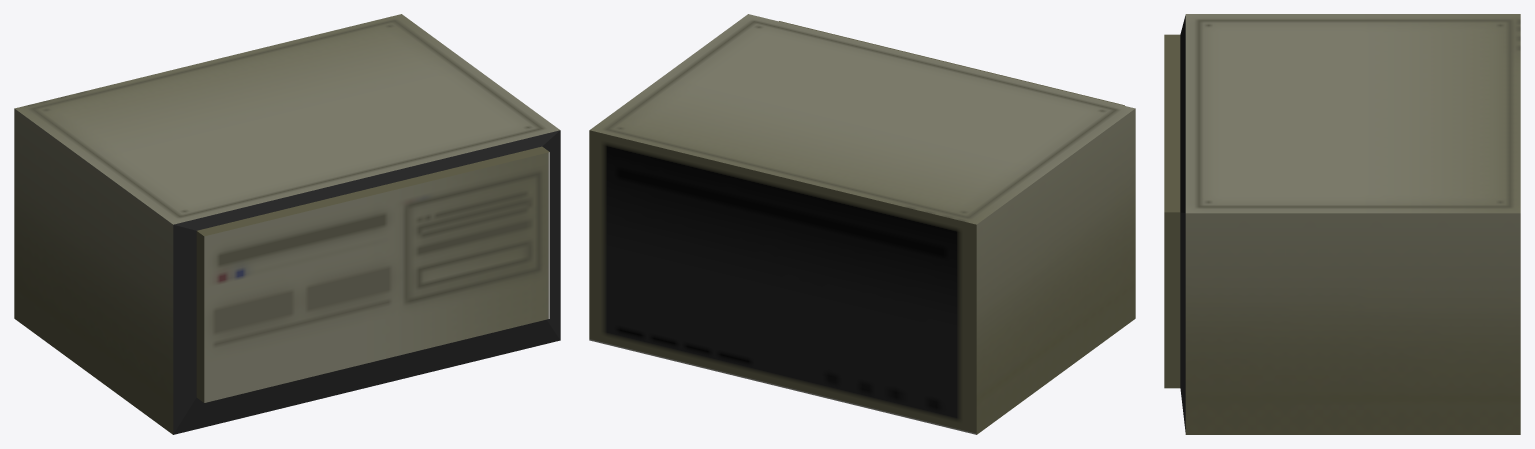
The picture shows the model from 3 angles, left to right: view 1: azimuth 30°, elevation 25°; view 2: azimuth 150°, elevation 25°; view 3: azimuth 270°, elevation 25°; orthographic projection. The views are drawn at different scales.
Visible parts, largest first — view 1: Pc2; view 2: Pc2; view 3: Pc2.
Part boxes in pixels (x1,y1,x2,y2): Pc2: (14,14,560,434); Pc2: (589,14,1135,434); Pc2: (1164,14,1520,434).
Size of the model in its own units: 35.2 by 18.27 by 26.6.
